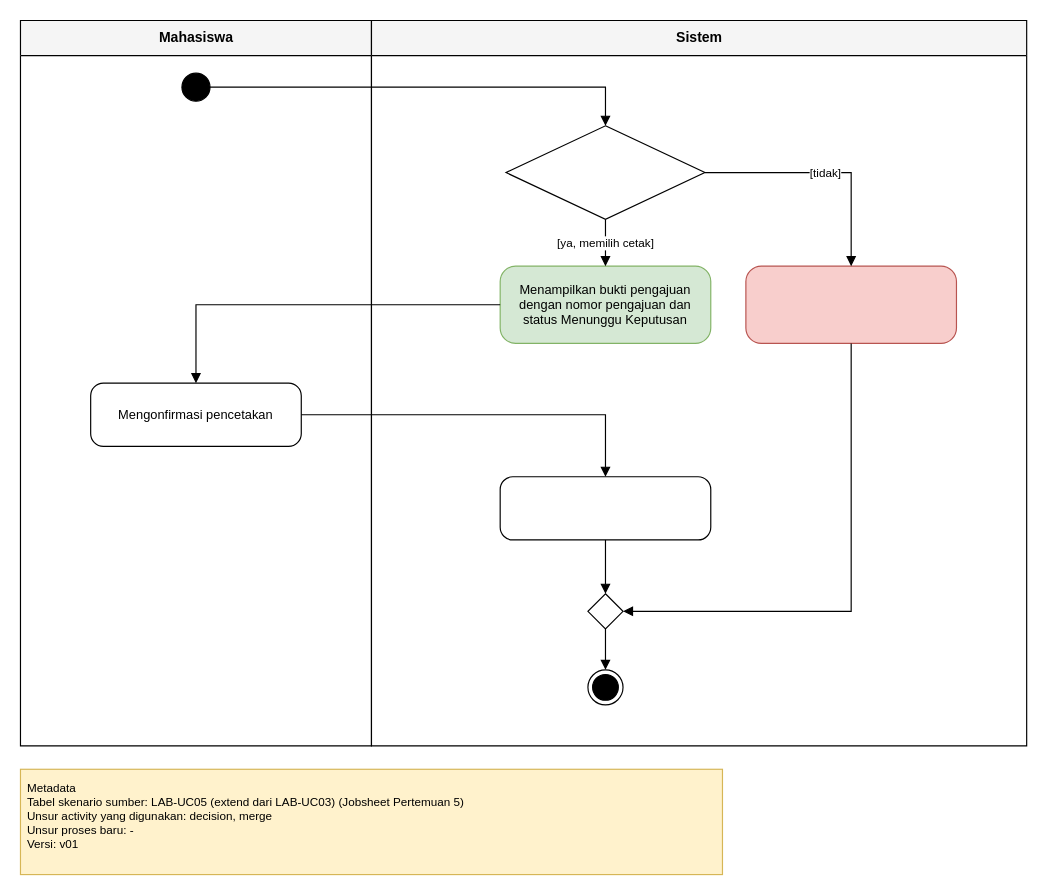
Some shapes in this 1047 by 895 pixel diagram are drawn without their labels. The centre of each missing label's shape, as x and y in pixels:
"Mahasiswa memilih cetak bukti?" belongs at point 605,172.
"Mencetak bukti pengajuan" belongs at point 605,508.
"Menutup konfirmasi tanpa mencetak bukti dan pengajuan tetap tersimpan" belongs at point 850,304.
